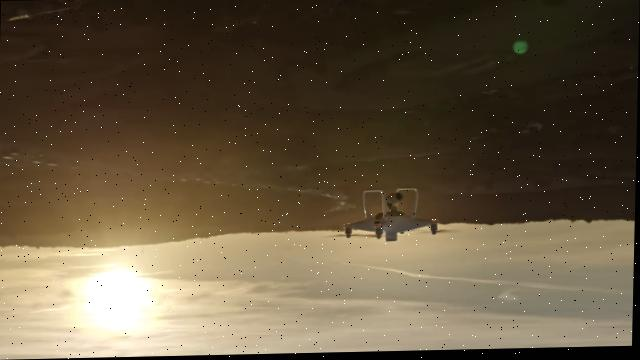drone: (324, 188, 454, 244)
